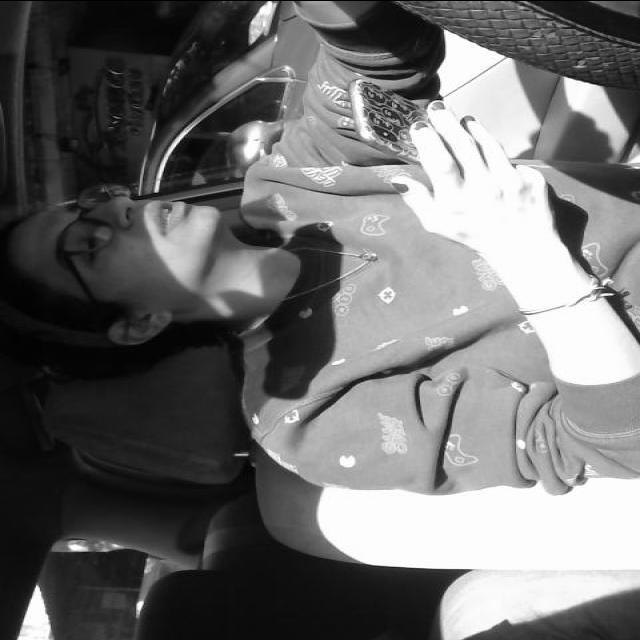mobile use: (320, 76, 494, 175)
